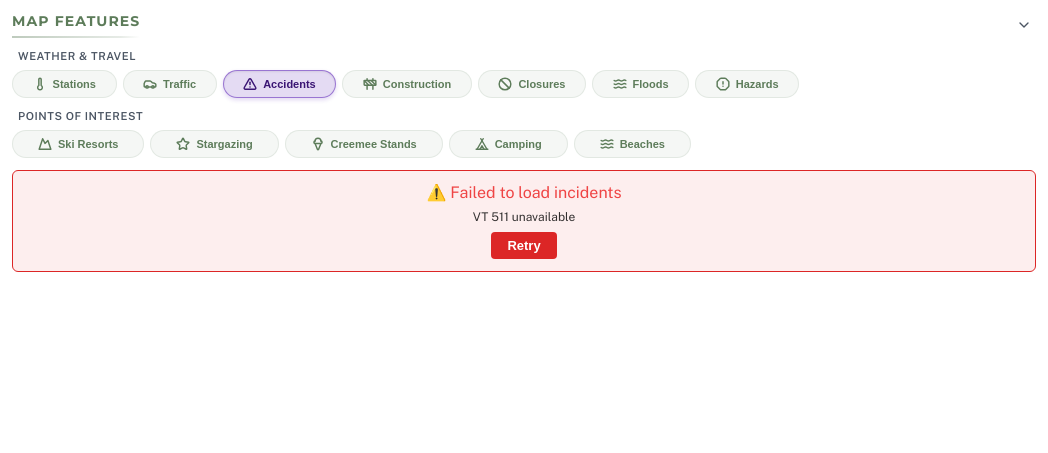
Test: TravelLayer › shows the error state and retries
This screenshot has width=1048, height=453.
Expected: the message shows "VT 511 unavailable", [473, 210, 575, 224]
Click the button with aria-label "Retry loading incidents": (524, 246) [491, 232, 557, 259]
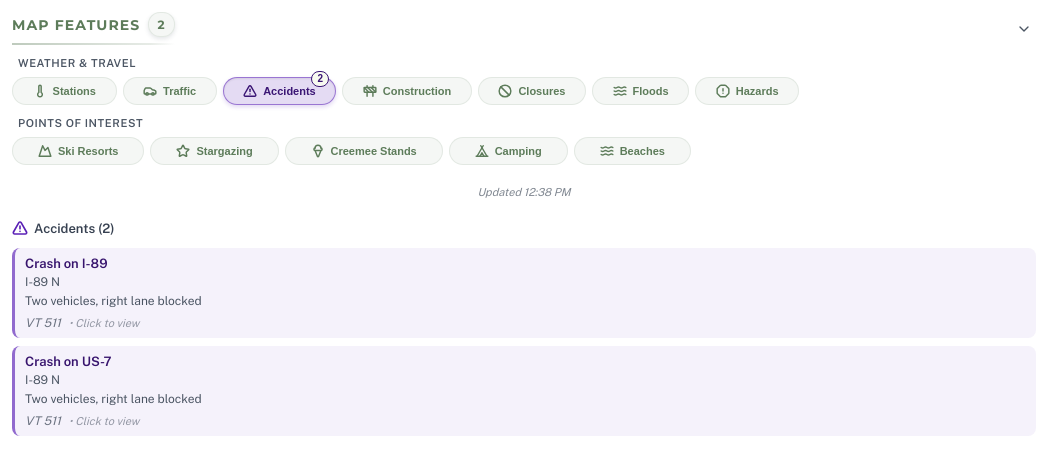
Expected: the message "⚠️ Failed to load incidents VT 511 unavailable Retry" is gone
